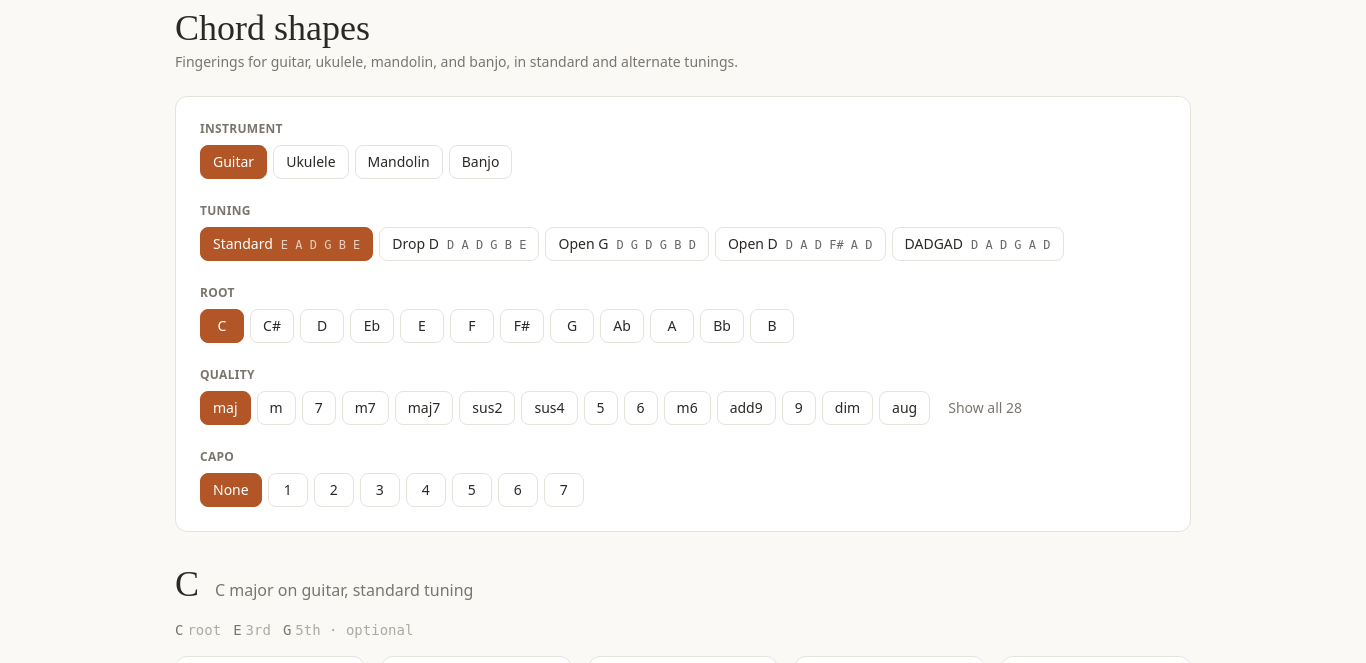
Test case: display › reveals the long tail of qualities on request
Expected: the button "dim7" is not shown
Click the button "Show all 28" at (985, 408), box [936, 391, 1034, 425]
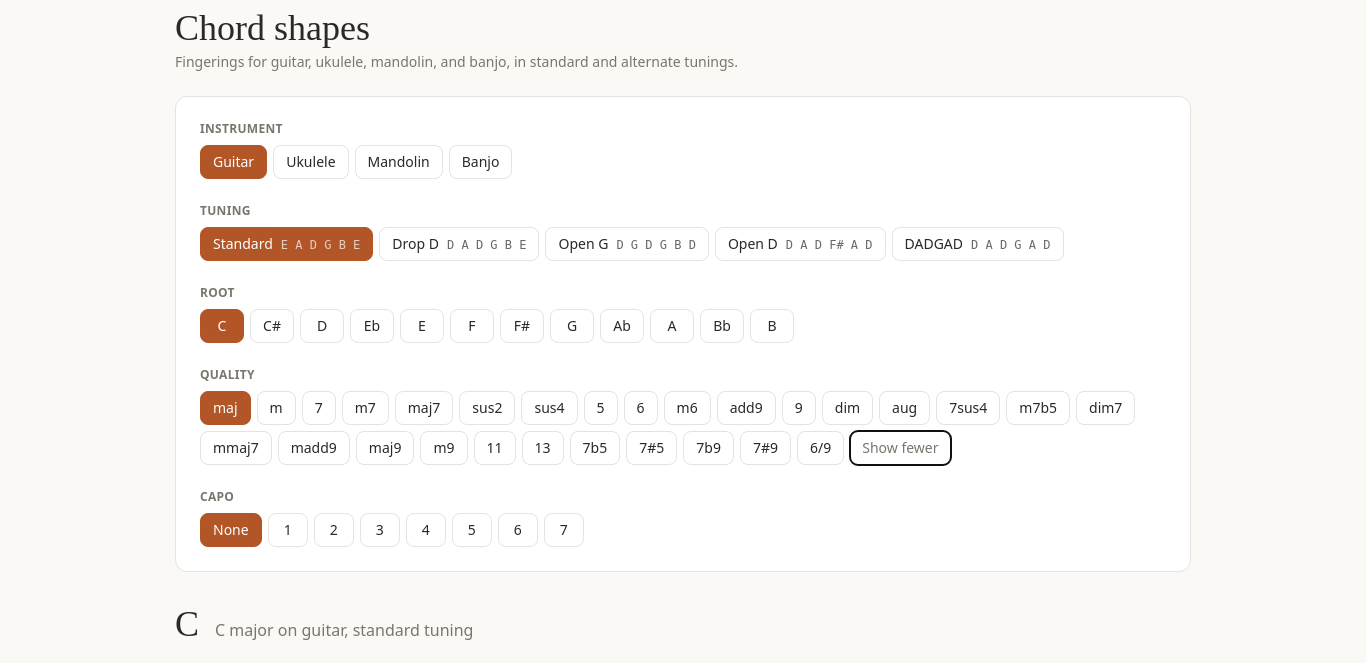
Expected: the button "dim7" is shown, [1076, 391, 1135, 425]
